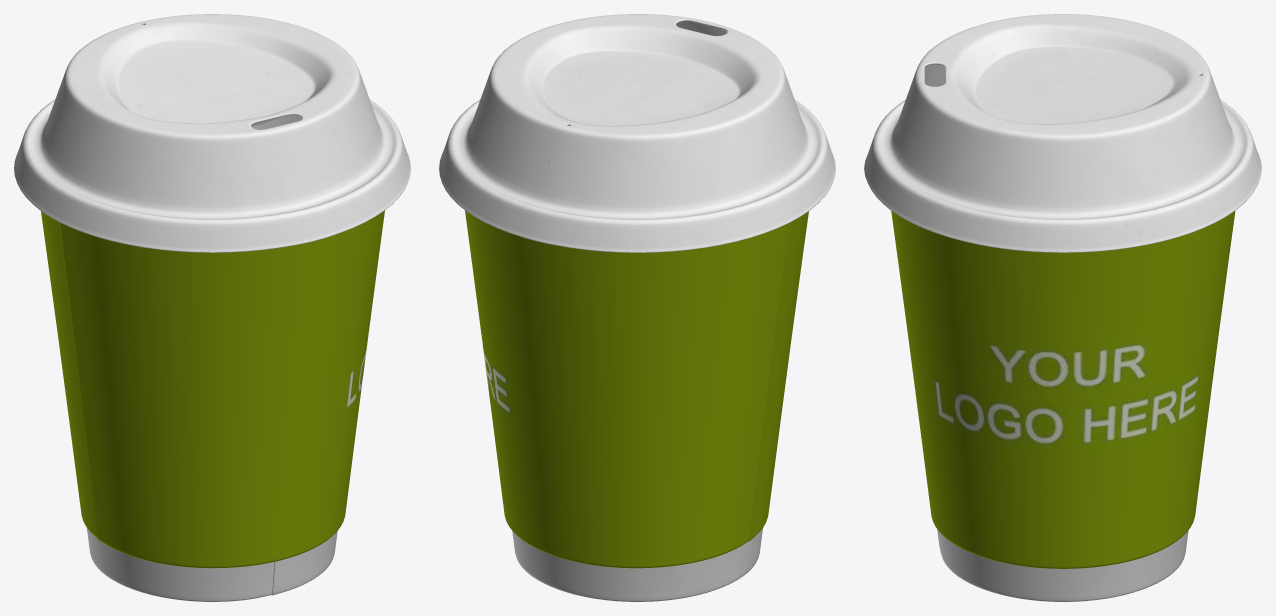
File: cuplid-clean-transformed.glb
The picture shows the model from 3 angles, left to right: view 1: azimuth 30°, elevation 25°; view 2: azimuth 150°, elevation 25°; view 3: azimuth 270°, elevation 25°; orthographic projection.
Visible parts, largest first — view 1: SoftFBXASC032drinkFBXASC032glass; view 2: SoftFBXASC032drinkFBXASC032glass; view 3: SoftFBXASC032drinkFBXASC032glass.
Part boxes in pixels (x1,y1,x2,y2): SoftFBXASC032drinkFBXASC032glass: (14,14,410,601); SoftFBXASC032drinkFBXASC032glass: (439,14,835,601); SoftFBXASC032drinkFBXASC032glass: (864,14,1261,601).
Bounding box in the file's own units: 0.0944 × 0.1251 × 0.0946.
Materials: 1 (1 with a texture image).
